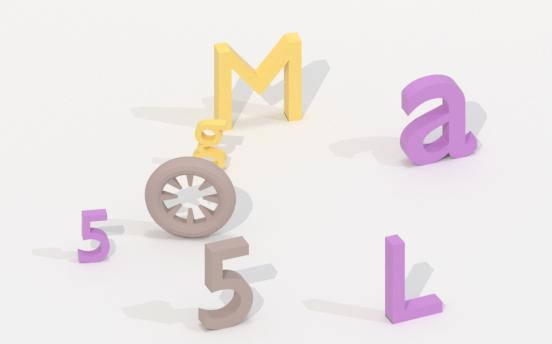5: (195, 235, 258, 333), (75, 208, 116, 264)
M-hoa: (208, 36, 307, 131)
a: (396, 75, 480, 166)
g: (191, 116, 234, 173)
l: (377, 229, 457, 324)
tron: (142, 158, 238, 239)
